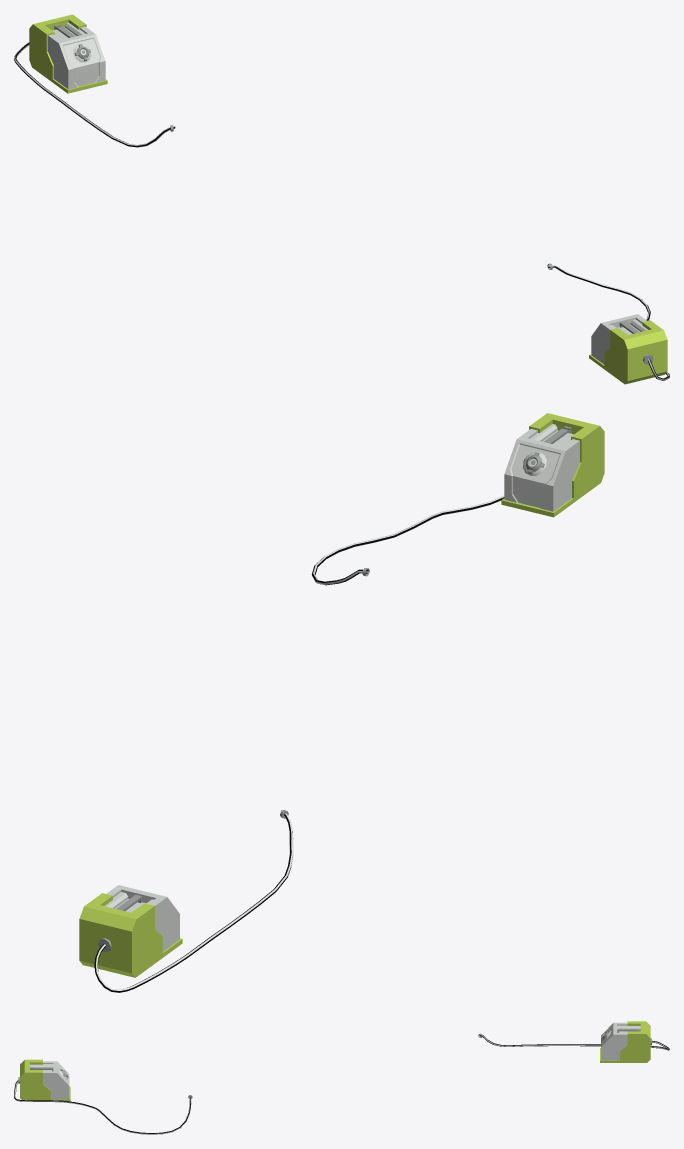
The picture shows the model from 3 angles, top to bottom: view 1: azimuth 30°, elevation 25°; view 2: azimuth 150°, elevation 25°; view 3: azimuth 270°, elevation 25°; orthographic projection. The views are drawn at different scales.
Parts seen in each view (by area): view 1: G:\FFXIV-MapTools\exports\x6t1\bg\ex5\01_xkt_x6\twn\x6t1\bgp (×3); view 2: G:\FFXIV-MapTools\exports\x6t1\bg\ex5\01_xkt_x6\twn\x6t1\bgp (×3); view 3: G:\FFXIV-MapTools\exports\x6t1\bg\ex5\01_xkt_x6\twn\x6t1\bgp (×3).
Part boxes in pixels (bbox=[...]): G:\FFXIV-MapTools\exports\x6t1\bg\ex5\01_xkt_x6\twn\x6t1\bgp (×3): bbox=[14, 14, 669, 384]; G:\FFXIV-MapTools\exports\x6t1\bg\ex5\01_xkt_x6\twn\x6t1\bgp (×3): bbox=[79, 413, 604, 992]; G:\FFXIV-MapTools\exports\x6t1\bg\ex5\01_xkt_x6\twn\x6t1\bgp (×3): bbox=[14, 1021, 669, 1134].
Bounding box in the file's own units: 3.55 × 0.8036 × 12.33.
